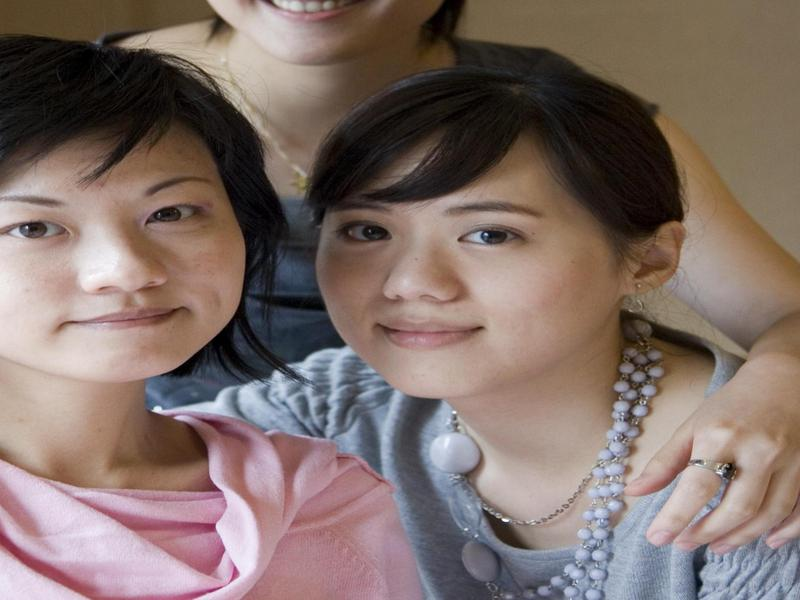person: (98, 3, 800, 547), (279, 61, 799, 600), (1, 29, 424, 600)
